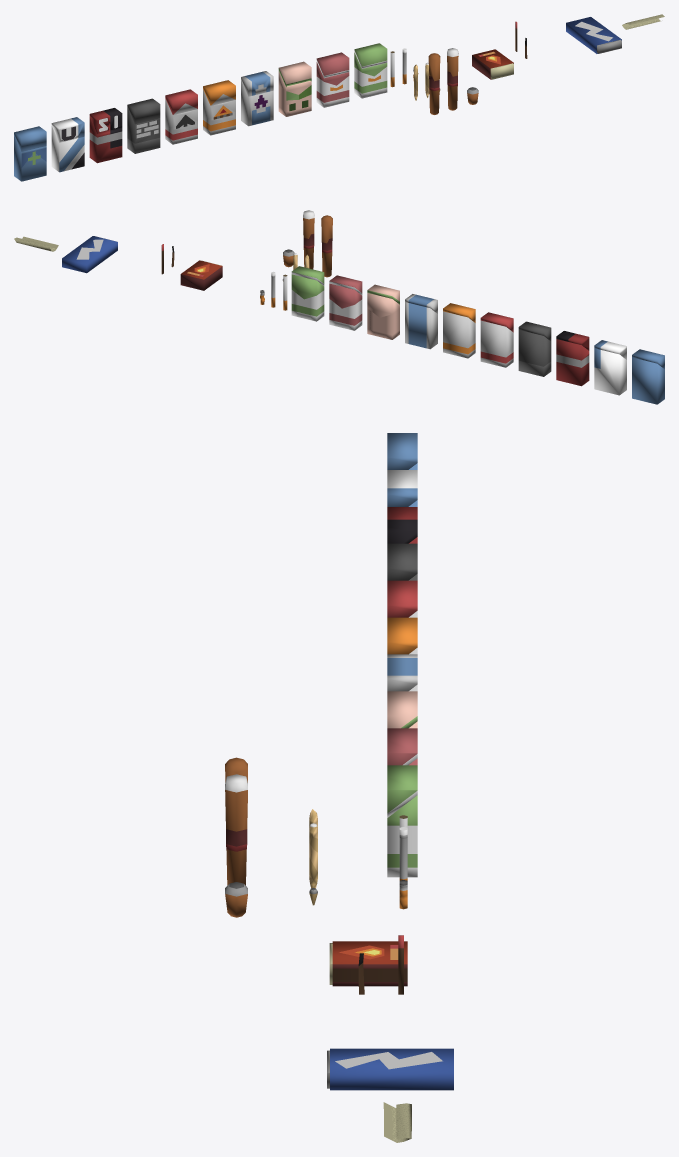
Rendered from cigarettes, joints, & matches.fbx.
The picture shows the model from 3 angles, top to bottom: view 1: azimuth 30°, elevation 25°; view 2: azimuth 150°, elevation 25°; view 3: azimuth 270°, elevation 25°; orthographic projection. The views are drawn at different scales.
Parts seen in each view (by area): view 1: Rolling Paper Box, Pack.MidoriBody, Pack.UpliftBody, Pack.ShadyJimBody, Pack.DpacketBody, Pack.SyndieBody, Pack.CigPacketBody, Pack.RobustBody, Pack.RobustGoldBody, Pack.CarpClassicBody, Pack.MedBody, Match Box (+13 smaller); view 2: Pack.RobustBody, Pack.CigPacketBody, Pack.DpacketBody, Pack.ShadyJimBody, Pack.SyndieBody, Pack.MidoriBody, Pack.UpliftBody, Pack.MedBody, Pack.CarpClassicBody, Pack.RobustGoldBody, Rolling Paper Box, Match Box (+13 smaller); view 3: Rolling Paper Box, Match Box, Havana Fine Cigar Lit, Pack.CigPacketBody, Pack.CigPacketLid, Pack.RobustLid, Pack.ShadyJimLid, Pack.RobustGoldLid, Pack.MidoreTop, Pack.CarpClassicLid, Pack.DpacketLid, Pack.SyndieLid (+3 smaller).
Part boxes in pixels (left/top/right/bottom): Rolling Paper Box: left=566, top=17, right=621, bottom=53; Pack.MidoriBody: left=278, top=71, right=311, bottom=116; Pack.UpliftBody: left=51, top=126, right=84, bottom=172; Pack.ShadyJimBody: left=127, top=107, right=160, bottom=153; Pack.DpacketBody: left=316, top=62, right=349, bottom=107; Pack.SyndieBody: left=89, top=117, right=122, bottom=163; Pack.CigPacketBody: left=354, top=52, right=387, bottom=98; Pack.RobustBody: left=165, top=99, right=197, bottom=144; Pack.RobustGoldBody: left=203, top=89, right=235, bottom=135; Pack.CarpClassicBody: left=241, top=80, right=273, bottom=126; Pack.MedBody: left=14, top=135, right=46, bottom=181; Match Box: left=472, top=49, right=513, bottom=79; Pack.RobustBody: left=480, top=320, right=513, bottom=367; Pack.CigPacketBody: left=291, top=274, right=324, bottom=321; Pack.DpacketBody: left=329, top=283, right=362, bottom=330; Pack.ShadyJimBody: left=518, top=330, right=551, bottom=376; Pack.SyndieBody: left=556, top=339, right=589, bottom=386; Pack.MidoriBody: left=367, top=293, right=399, bottom=339; Pack.UpliftBody: left=594, top=348, right=626, bottom=395; Pack.MedBody: left=632, top=357, right=664, bottom=404; Pack.CarpClassicBody: left=405, top=302, right=437, bottom=349; Pack.RobustGoldBody: left=443, top=311, right=475, bottom=358; Rolling Paper Box: left=62, top=236, right=117, bottom=273; Match Box: left=180, top=260, right=222, bottom=290; Rolling Paper Box: left=327, top=1048, right=453, bottom=1090; Match Box: left=329, top=941, right=407, bottom=986; Havana Fine Cigar Lit: left=225, top=774, right=247, bottom=885; Pack.CigPacketBody: left=387, top=795, right=417, bottom=877; Pack.CigPacketLid: left=387, top=765, right=417, bottom=817; Pack.RobustLid: left=387, top=580, right=417, bottom=617; Pack.ShadyJimLid: left=387, top=543, right=417, bottom=580; Pack.RobustGoldLid: left=387, top=617, right=417, bottom=654; Pack.MidoreTop: left=387, top=691, right=417, bottom=728; Pack.CarpClassicLid: left=387, top=654, right=417, bottom=691; Pack.DpacketLid: left=387, top=728, right=417, bottom=765; Pack.SyndieLid: left=387, top=507, right=417, bottom=543.
Bounding box in the file's own units: 3.02 × 0.2812 × 0.4635.
